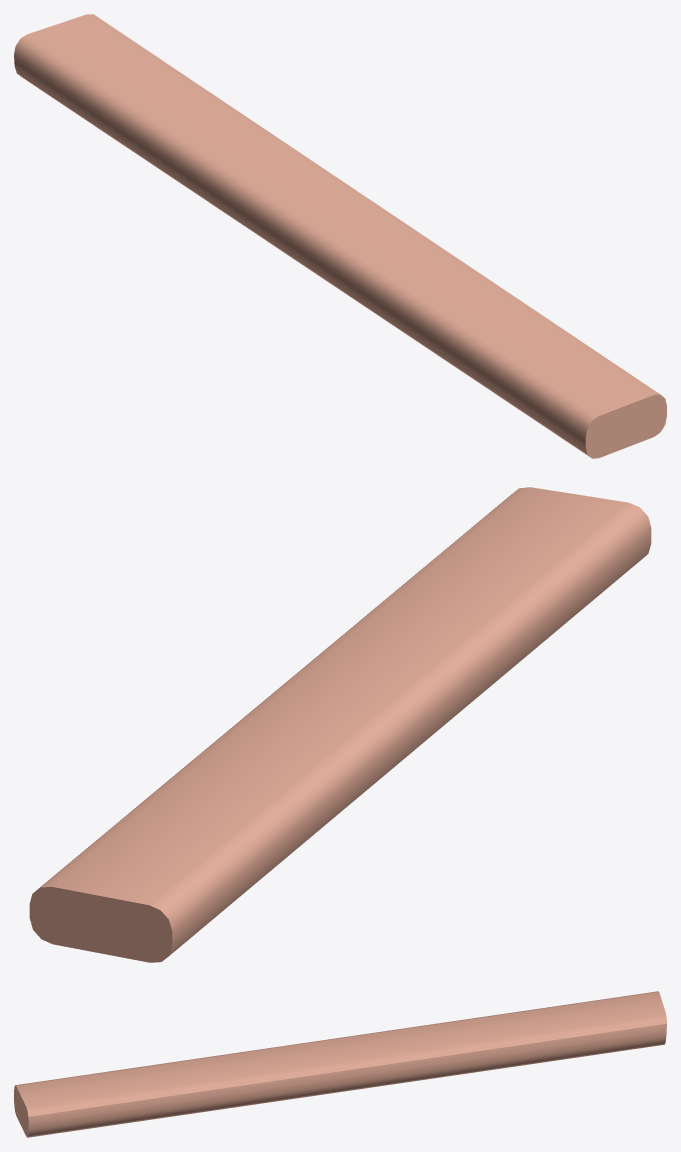
Rendered from holder 3.fbx.
The picture shows the model from 3 angles, top to bottom: view 1: azimuth 30°, elevation 25°; view 2: azimuth 150°, elevation 25°; view 3: azimuth 270°, elevation 25°; orthographic projection. The views are drawn at different scales.
Visible parts, largest first — view 1: Holder 3; view 2: Holder 3; view 3: Holder 3.
Boxes of the visible parts, x1,y1,x2,y2 form: Holder 3: (14, 14, 666, 458); Holder 3: (29, 487, 651, 962); Holder 3: (14, 991, 666, 1137).
Bounding box in the file's own units: 229 × 126 × 884.
